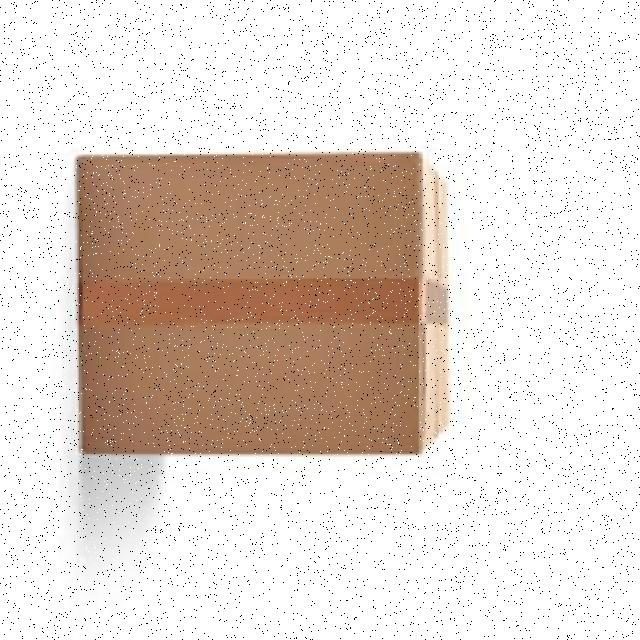normal: (70, 148, 458, 457)
